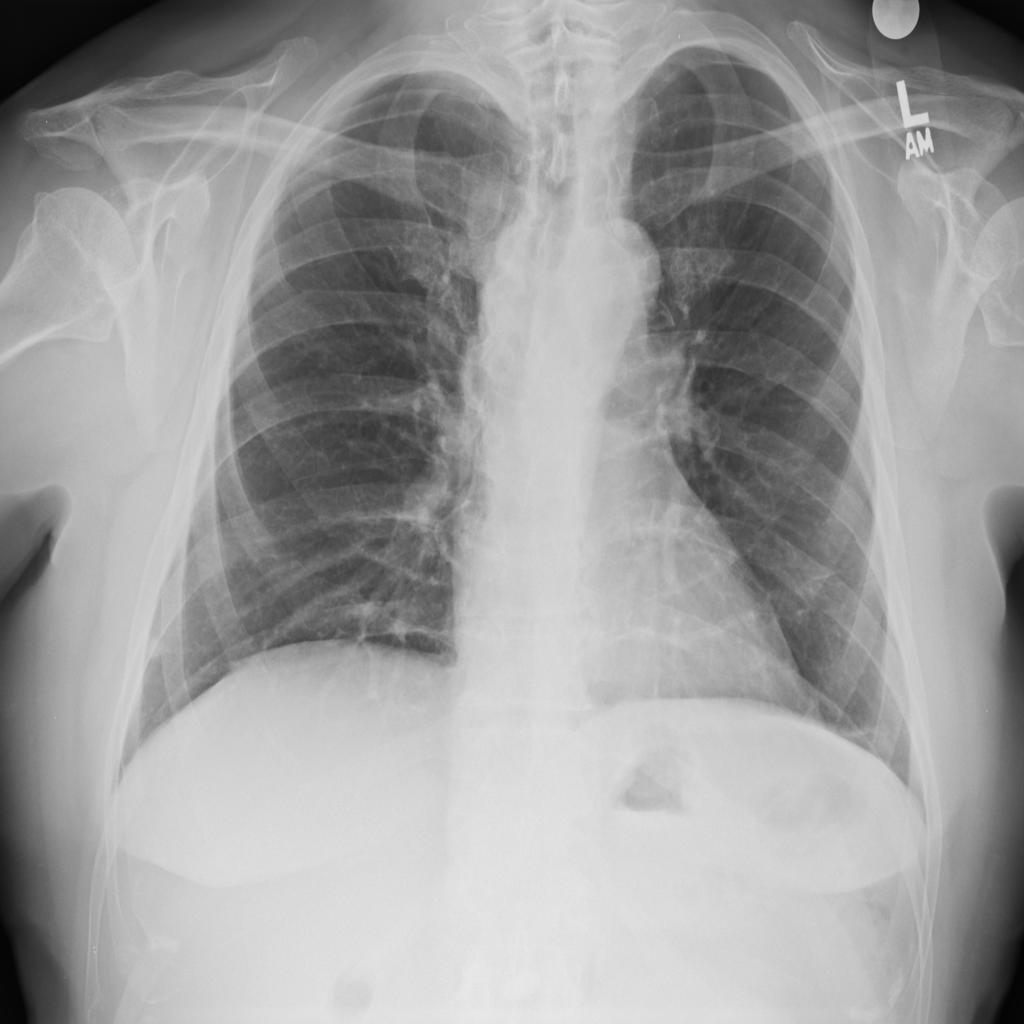nodule: (663, 216, 737, 311)
